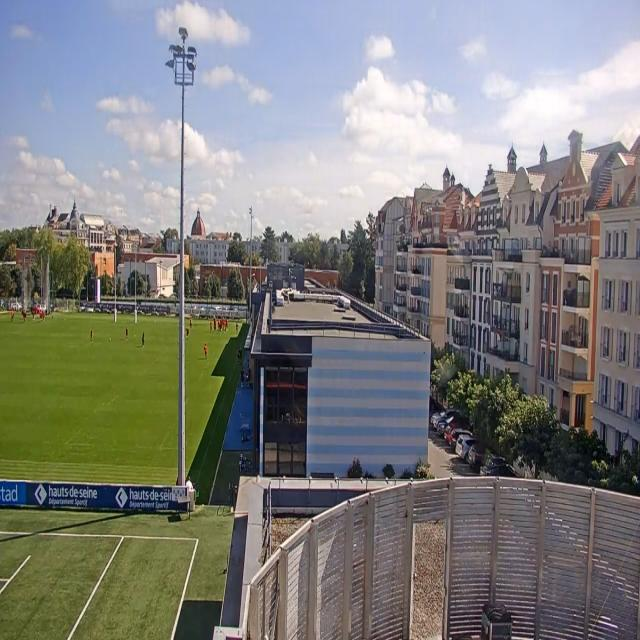rugby ball: (134, 331, 138, 338), (108, 334, 112, 339)
rugby play: (202, 340, 209, 361), (142, 326, 146, 351), (88, 325, 94, 341), (186, 323, 190, 339), (124, 322, 128, 336)
